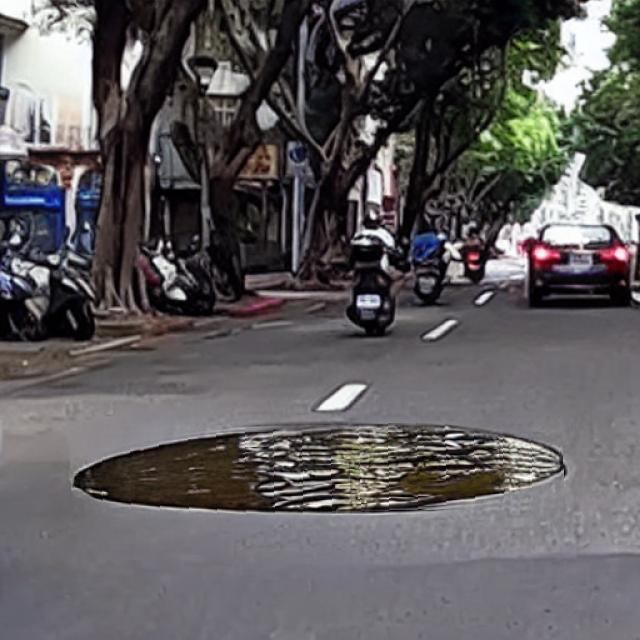puddle: (72, 423, 566, 518)
